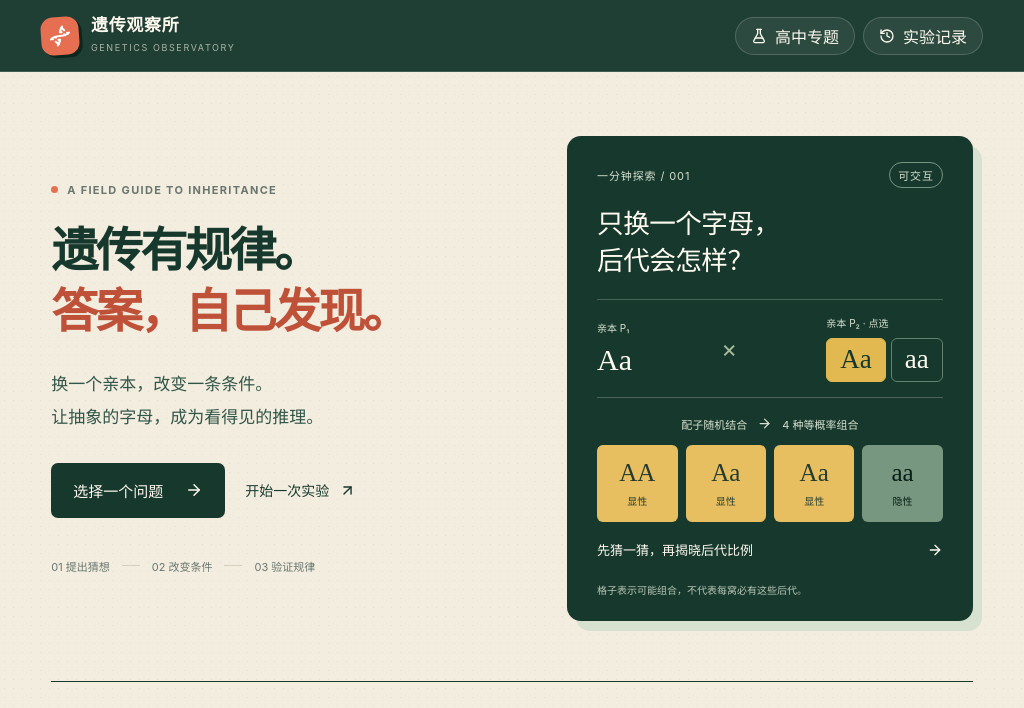
Test: App › opens the high-school workbench from the header
Click the button "高中专题" at (795, 36), box [735,16,855,54]
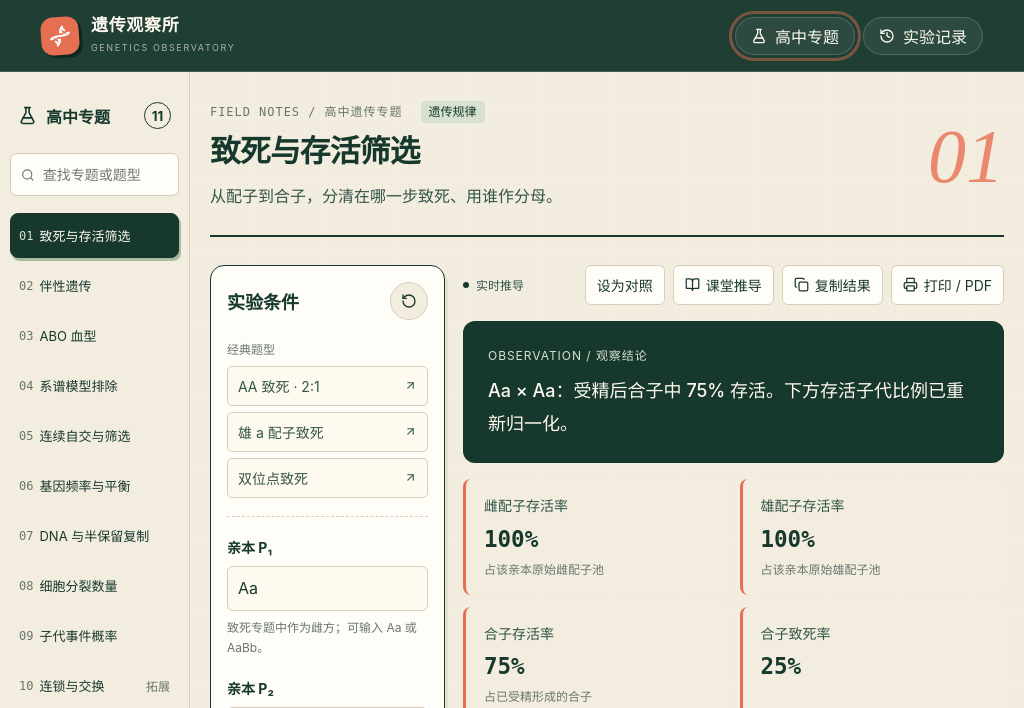
Now the heading "致死与存活筛选" is shown, box [210,135,420,169]
Click the button with aria-label "返回遗传观察所首页" at (138, 36), box [41,16,236,55]
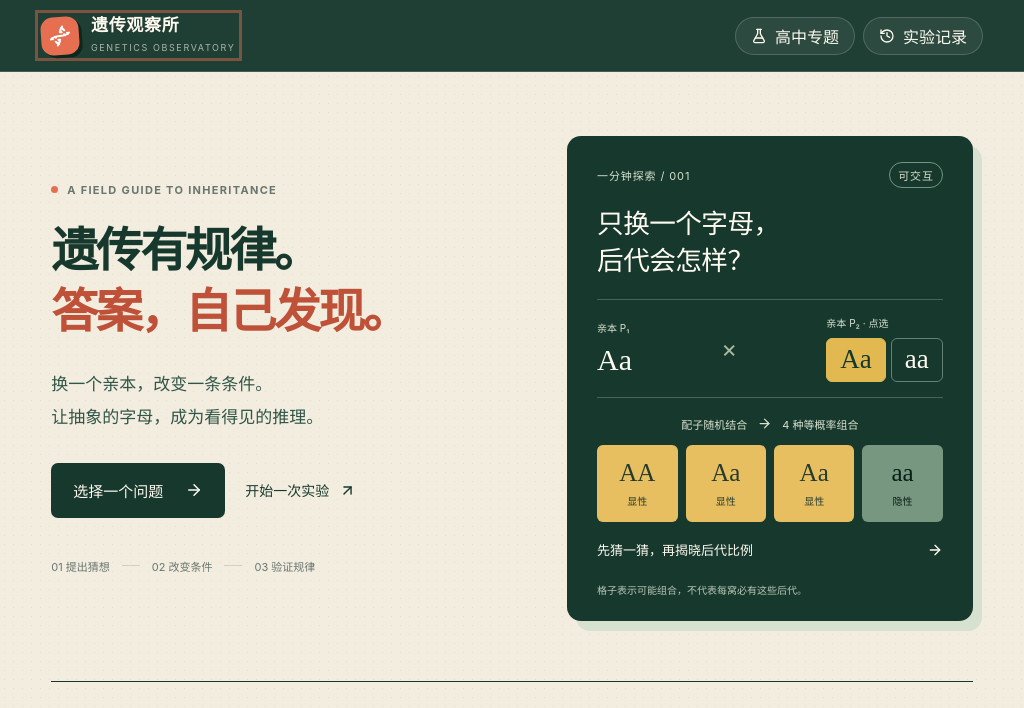
Now the button "开始一次实验" is shown, box [245,466,356,514]
